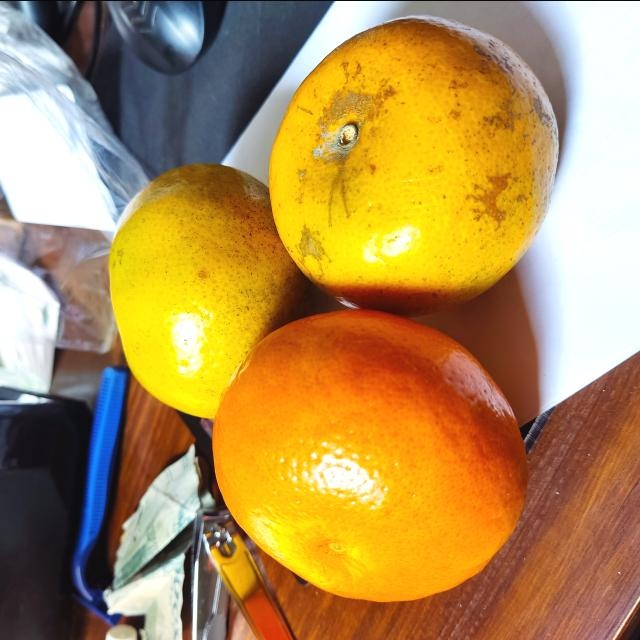agrume: (267, 17, 557, 315), (105, 162, 294, 414)
